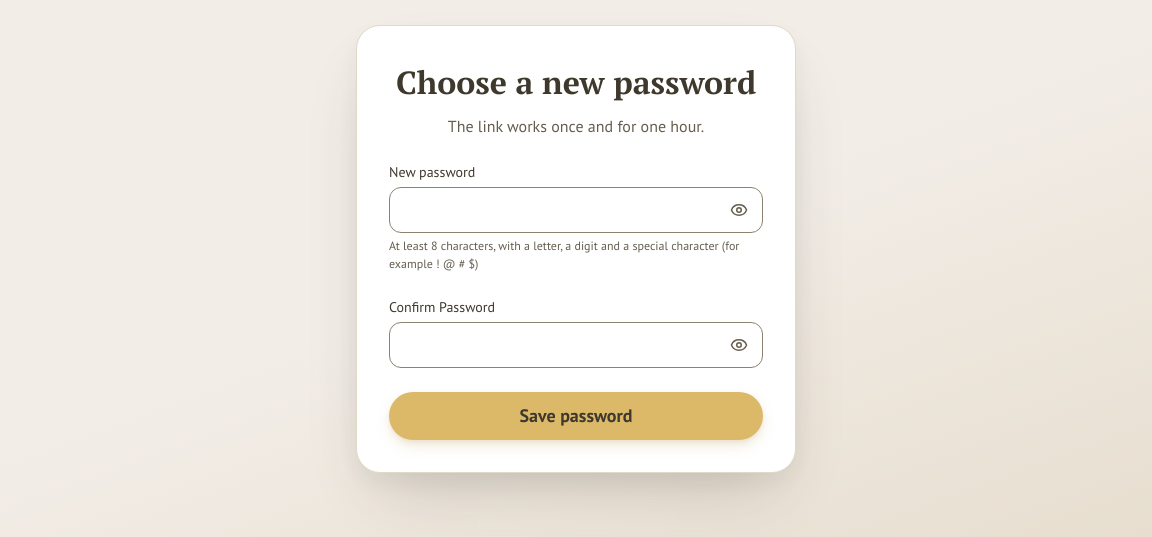
Test case: ResetPasswordPage › an empty password is reported by the site, not by the browser, and nothing is sent
The image size is (1152, 537).
(page scrolled)
What coordinates should you click on to do the following:
click the button "Save password"
I would click on:
 (576, 416)
Its box is [389,392,763,440].
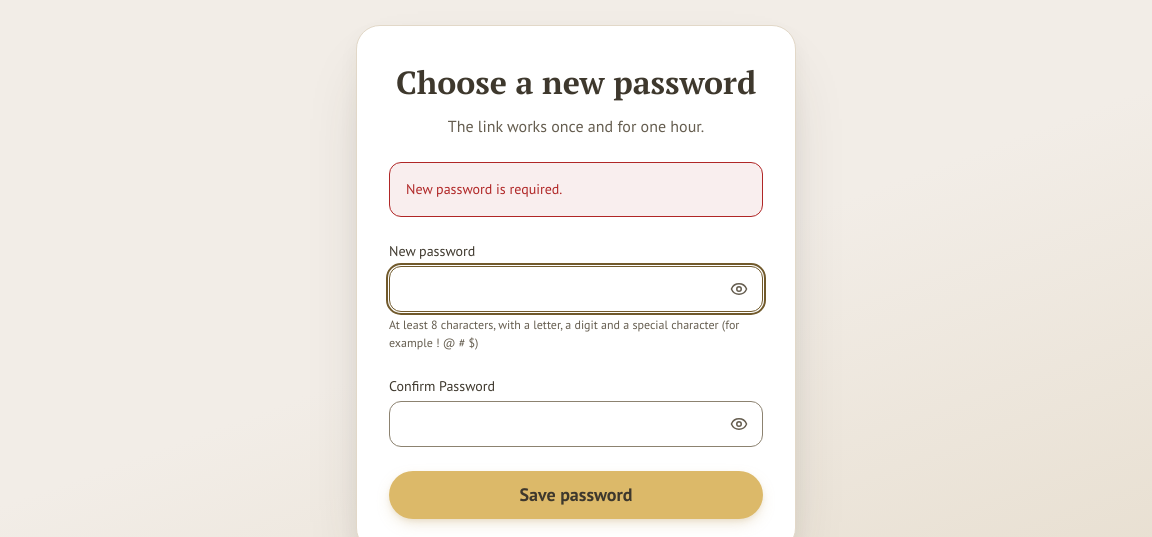
Result: the message reads "New password is required." at [406,180,562,198]
